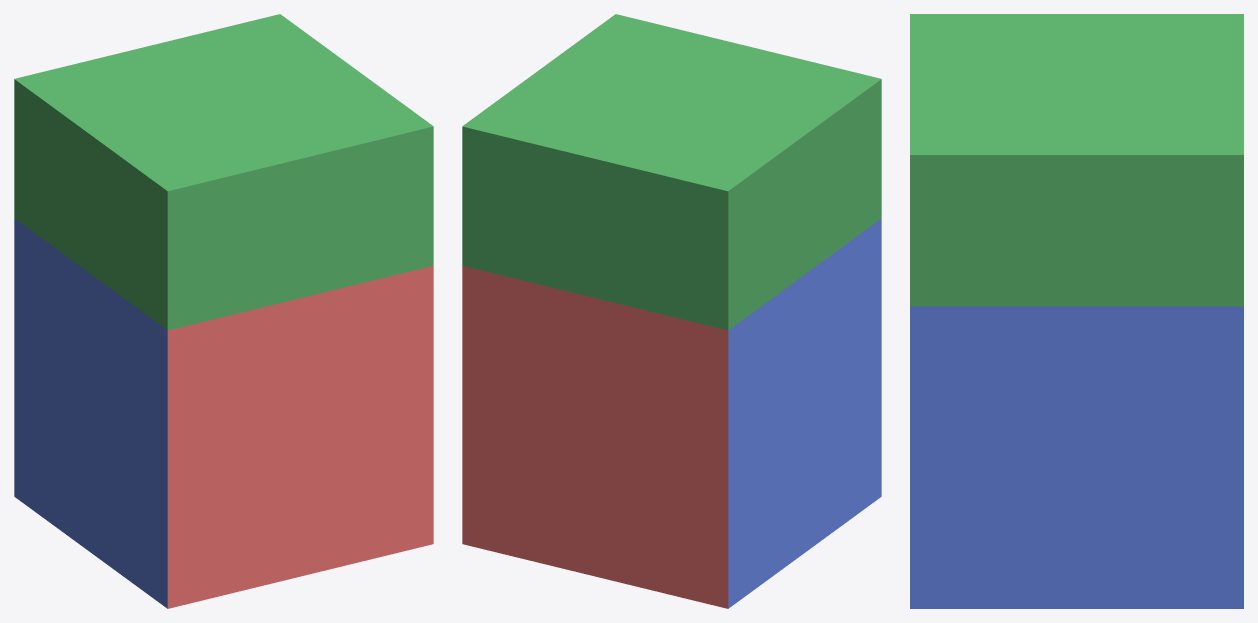
Rendered from meas_origin.pipe_length_0_5.dae.
3 renders of one model, left to right at view 1: azimuth 30°, elevation 25°; view 2: azimuth 150°, elevation 25°; view 3: azimuth 270°, elevation 25°, orthographic. The views are drawn at different scales.
Visible parts, largest first — view 1: ZXX (×2), Y (×3); view 2: ZXX (×2), Y (×3); view 3: ZXX, Y (×2).
Part boxes in pixels (bbox=[...]): ZXX (×2): bbox=[14, 218, 433, 608]; Y (×3): bbox=[14, 14, 433, 330]; ZXX (×2): bbox=[462, 218, 881, 608]; Y (×3): bbox=[462, 14, 881, 330]; ZXX: bbox=[910, 306, 1243, 608]; Y (×2): bbox=[910, 14, 1243, 306].
Bounding box in the file's own units: 1 × 1 × 1.5.
